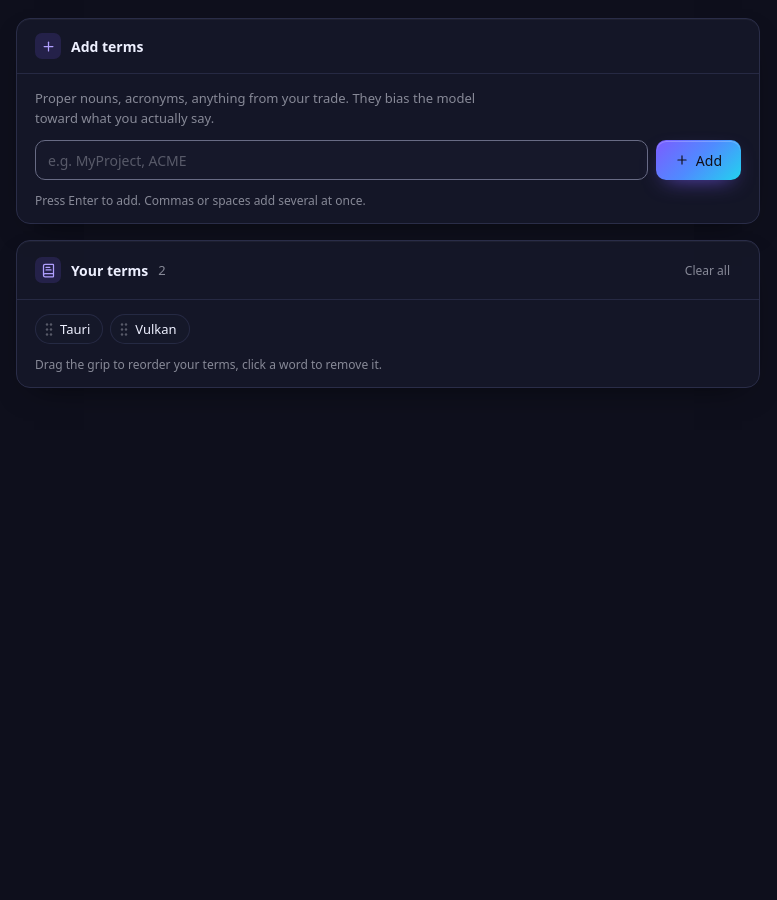
Test: VocabularyView › puts the term back and says so when the removal is refused
Click the button with aria-label "Remove Tauri". click: click(75, 329)
box: [60, 320, 90, 338]
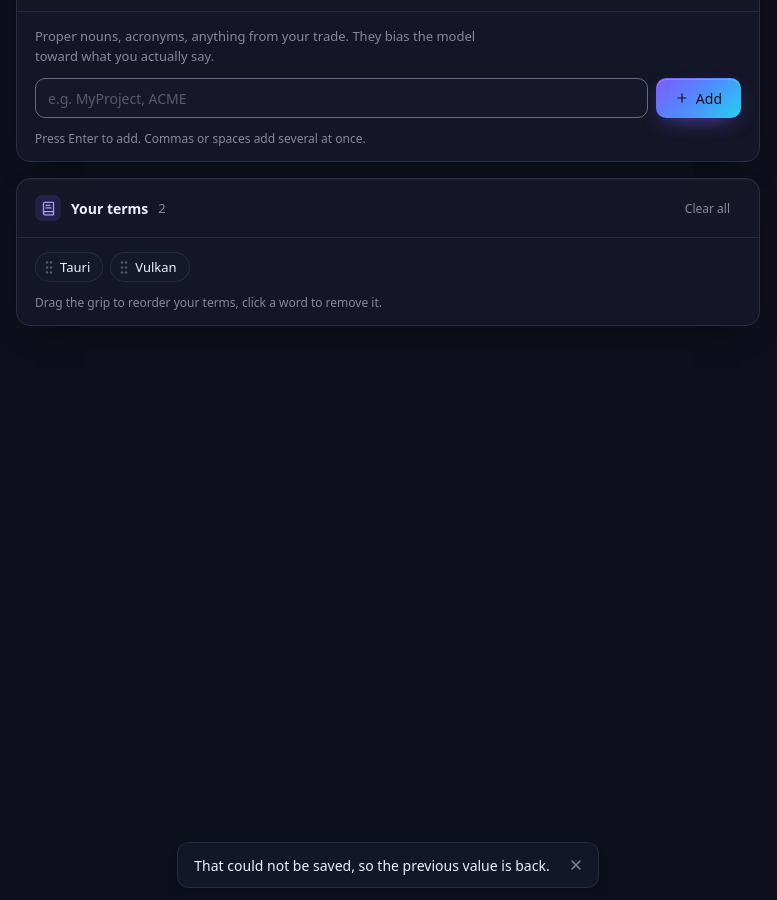
Expected: the message shows "could not be saved", [194, 856, 550, 874]
